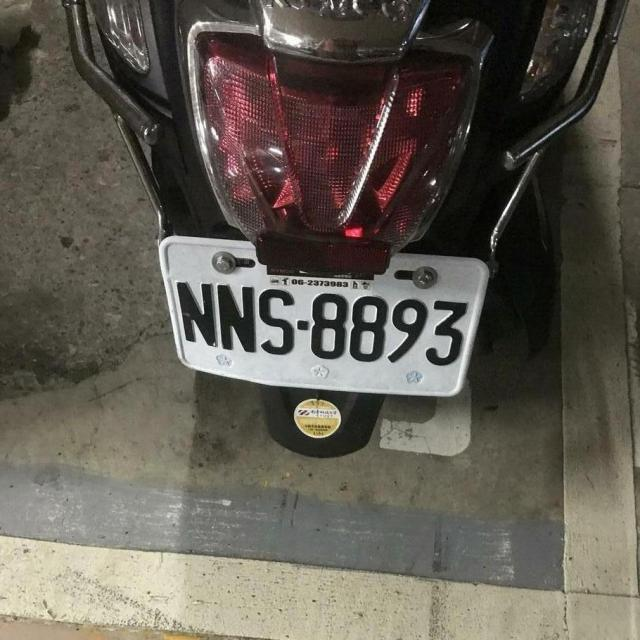W: (151, 241, 488, 400)
